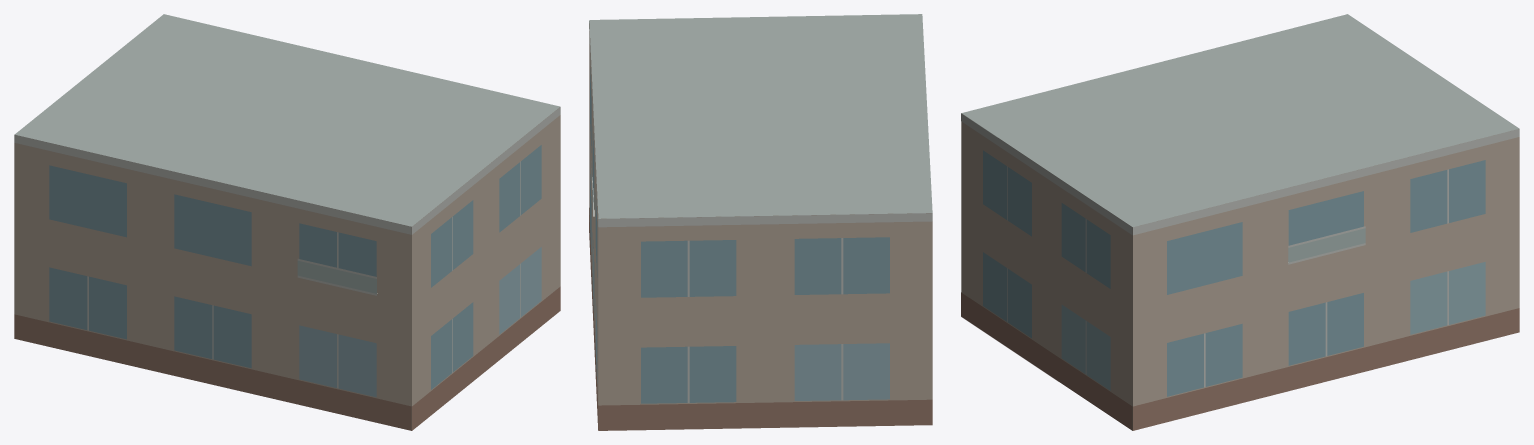
The model's file is survey-upis-32682336.glb.
3 renders of one model, left to right at view 1: azimuth 30°, elevation 25°; view 2: azimuth 150°, elevation 25°; view 3: azimuth 270°, elevation 25°, orthographic. The views are drawn at different scales.
Parts seen in each view (by area): view 1: survey-upis-32682336.tmp; view 2: survey-upis-32682336.tmp; view 3: survey-upis-32682336.tmp.
Boxes of the visible parts, bbox=[...] form: survey-upis-32682336.tmp: bbox=[14, 14, 560, 430]; survey-upis-32682336.tmp: bbox=[589, 14, 932, 430]; survey-upis-32682336.tmp: bbox=[961, 14, 1519, 430].
Size of the model in its own units: 13.72 by 6.1 by 15.18.
